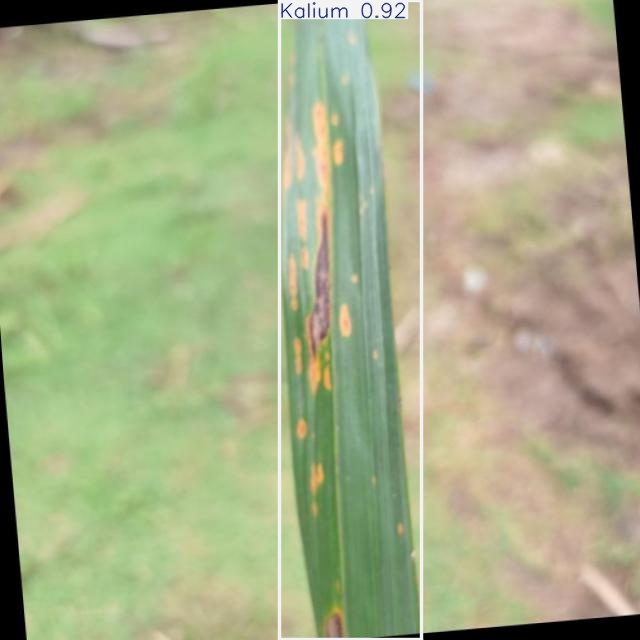Kalium: (280, 0, 421, 640)
